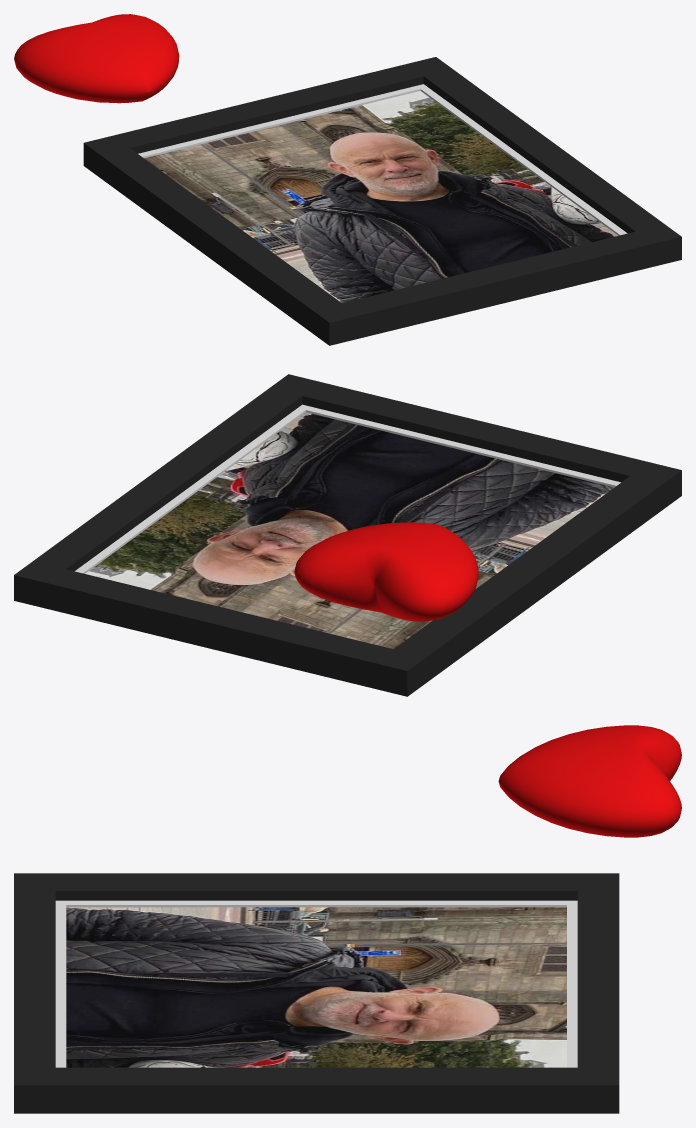
3 renders of one model, top to bottom at view 1: azimuth 30°, elevation 25°; view 2: azimuth 150°, elevation 25°; view 3: azimuth 270°, elevation 25°, orthographic. The views are drawn at different scales.
Parts seen in each view (by area): view 1: PhotoPlane.002, BuitenFrame, Hart, BinnenFrame; view 2: PhotoPlane.002, BuitenFrame, Hart, BinnenFrame; view 3: PhotoPlane.002, BuitenFrame, Hart, BinnenFrame.
Boxes of the visible parts, x1,y1,x2,y2 form: PhotoPlane.002: (144,91,617,302); BuitenFrame: (83,57,681,345); Hart: (14,14,179,103); BinnenFrame: (138,84,627,235); PhotoPlane.002: (85,412,613,648); BuitenFrame: (14,374,681,696); Hart: (294,522,478,621); BinnenFrame: (75,404,620,573); PhotoPlane.002: (66,907,566,1067); BuitenFrame: (14,873,619,1113); Hart: (498,725,681,837); BinnenFrame: (55,900,577,1067).
Bounding box in the file's own units: 0.5563 × 0.1754 × 0.6401.
Materials: 4 (1 with a texture image).
